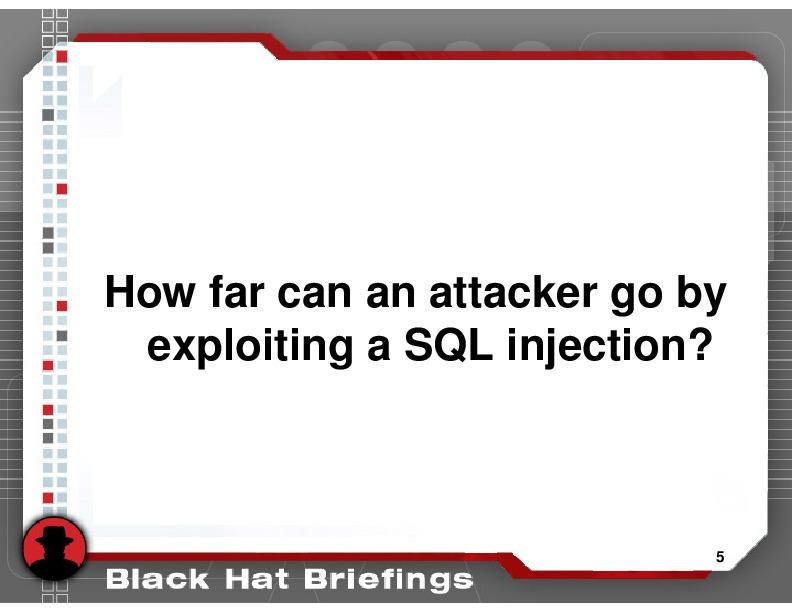subtitle: (97, 555, 493, 597)
title: (99, 255, 735, 375)
